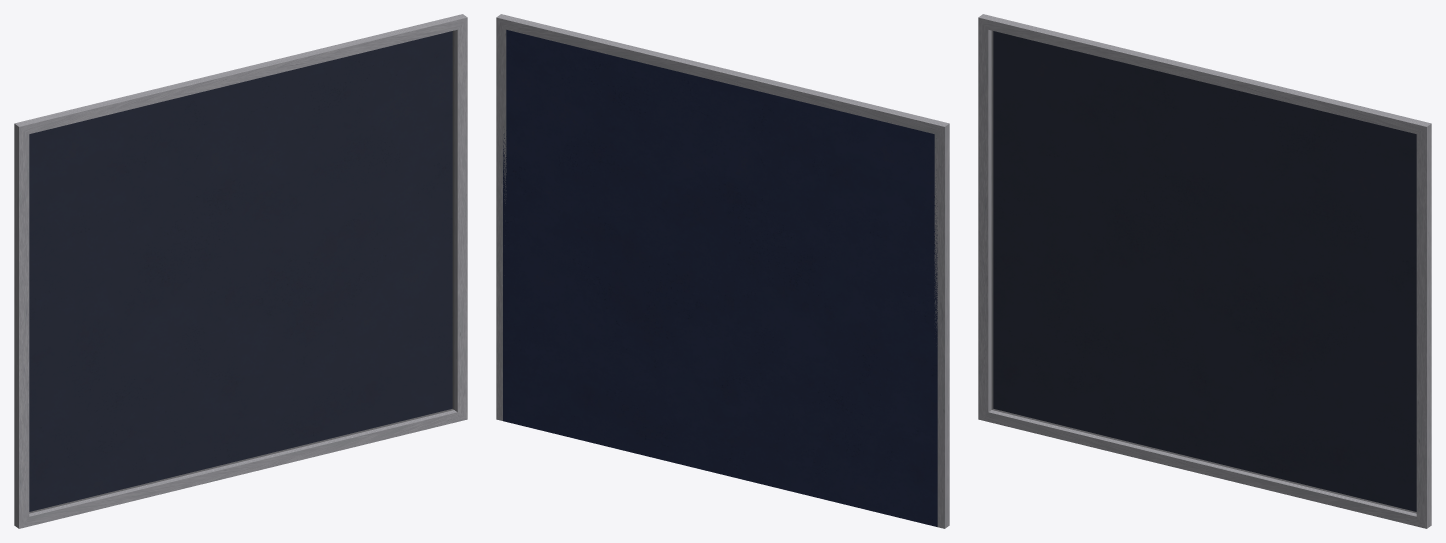
The model's file is smallWindow.fbx.
The picture shows the model from 3 angles, left to right: view 1: azimuth 30°, elevation 25°; view 2: azimuth 150°, elevation 25°; view 3: azimuth 330°, elevation 25°; orthographic projection.
Parts seen in each view (by area): view 1: Plane.020; view 2: Plane.020; view 3: Plane.020.
Boxes of the visible parts, left/top/right/bottom form: Plane.020: left=14, top=14, right=467, bottom=528; Plane.020: left=496, top=14, right=949, bottom=528; Plane.020: left=978, top=14, right=1431, bottom=528.
Bounding box in the file's own units: 633 × 542 × 11.84.
3 materials, 2 textured.
